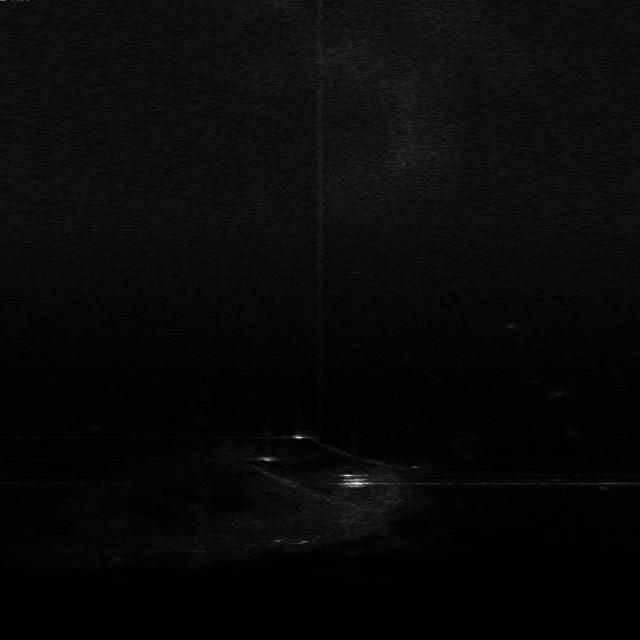rov: (339, 471, 373, 491)
